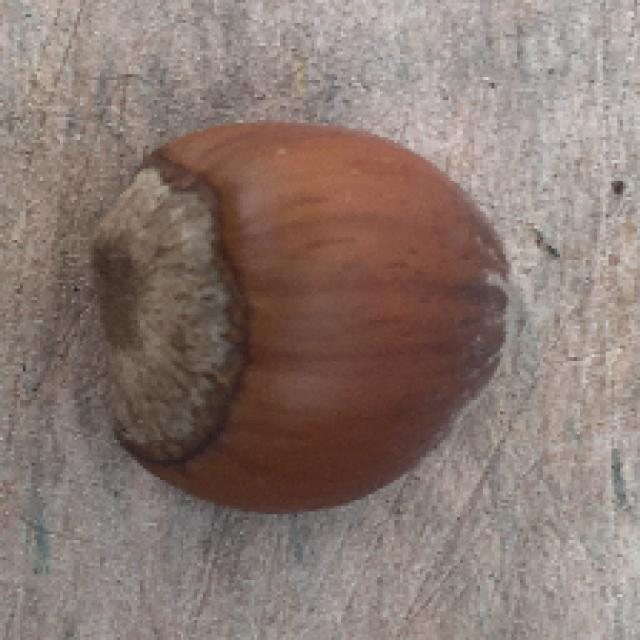DamagedHazelnut: (98, 118, 530, 512)
